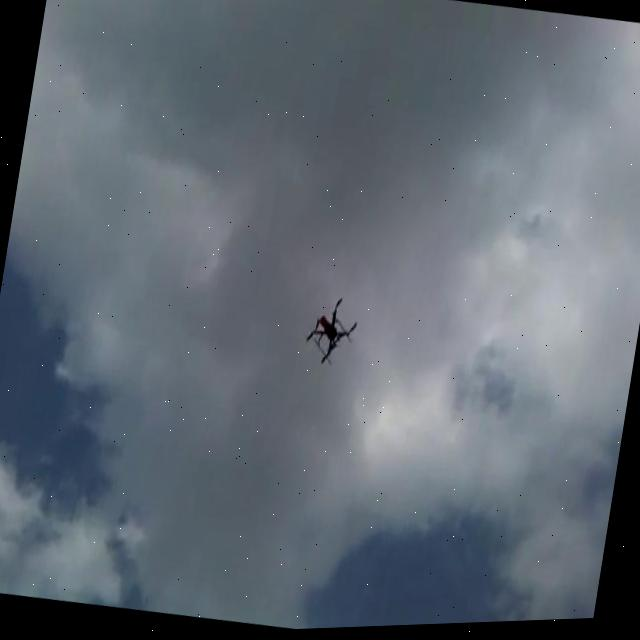drone: (300, 290, 362, 372)
